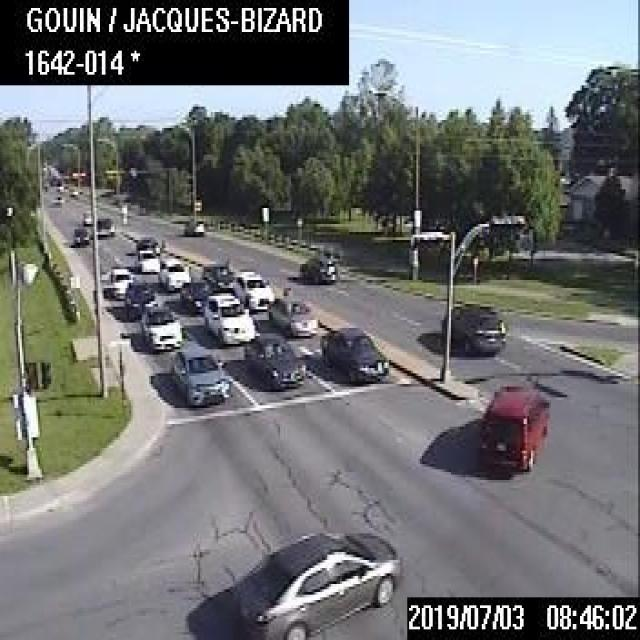vehicle: (229, 530, 400, 637), (477, 384, 549, 471), (319, 326, 387, 380), (439, 301, 505, 352), (171, 346, 228, 402), (242, 334, 302, 387), (202, 291, 254, 342), (266, 295, 316, 335), (140, 305, 180, 347), (232, 270, 272, 307), (123, 279, 156, 316), (298, 253, 335, 281), (157, 257, 189, 289), (178, 279, 208, 313), (201, 262, 233, 291), (108, 266, 134, 296), (136, 248, 158, 271), (135, 234, 158, 252), (94, 215, 112, 236), (182, 217, 203, 234), (71, 226, 88, 242), (82, 209, 91, 224), (51, 192, 61, 204)
